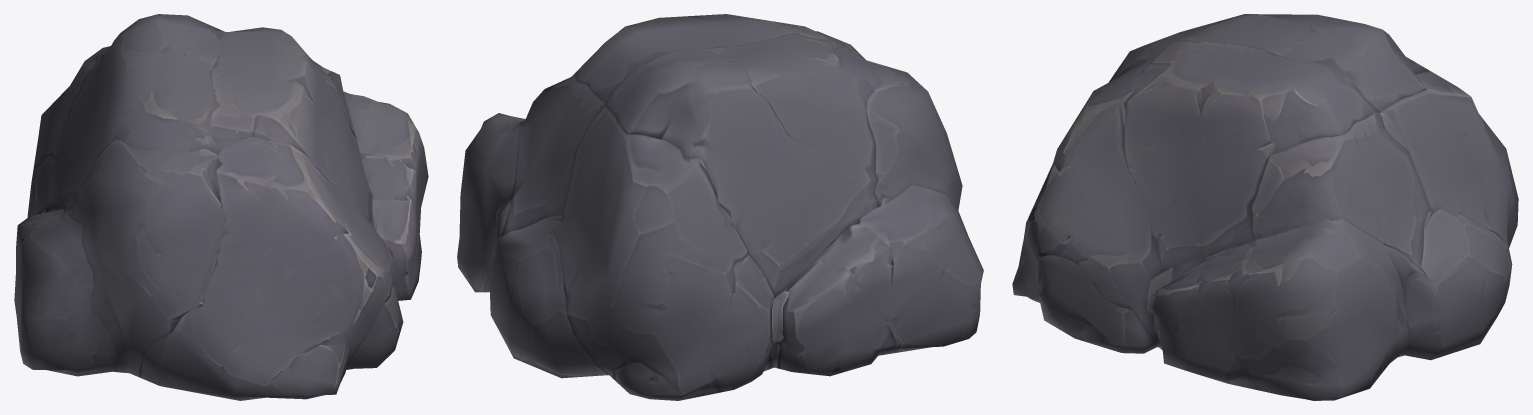
Rendered from rock_pile.glb.
3 renders of one model, left to right at view 1: azimuth 30°, elevation 25°; view 2: azimuth 150°, elevation 25°; view 3: azimuth 270°, elevation 25°, orthographic. The views are drawn at different scales.
Parts seen in each view (by area): view 1: tripo_node_adf1e515; view 2: tripo_node_adf1e515; view 3: tripo_node_adf1e515.
Part boxes in pixels (<box>): tripo_node_adf1e515: <box>14,14,428,400</box>; tripo_node_adf1e515: <box>457,14,983,400</box>; tripo_node_adf1e515: <box>1012,14,1518,400</box>.
Size of the model in its own units: 2.11 by 1.2 by 2.07.
Materials: 1 (1 with a texture image).
